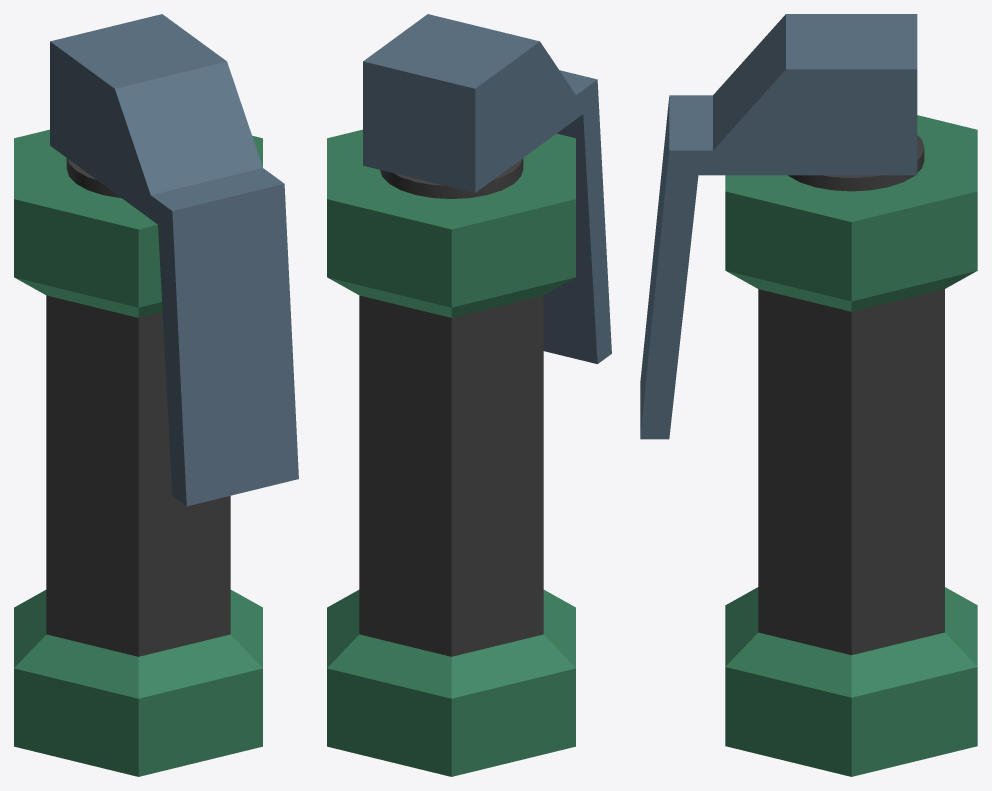
The model's file is grenadeFlash.obj.
3 renders of one model, left to right at view 1: azimuth 30°, elevation 25°; view 2: azimuth 150°, elevation 25°; view 3: azimuth 270°, elevation 25°, orthographic.
Parts seen in each view (by area): view 1: grenadeFlash, grip; view 2: grenadeFlash, grip; view 3: grenadeFlash, grip.
Part boxes in pixels (box(x1,y1,x2,y2)): grenadeFlash: box(14, 129, 262, 776); grip: box(50, 14, 298, 506); grenadeFlash: box(327, 129, 575, 776); grip: box(363, 14, 611, 363); grenadeFlash: box(725, 115, 977, 776); grip: box(640, 14, 917, 439).
Bounding box in the file's own units: 0.0766 × 0.1952 × 0.0887.
